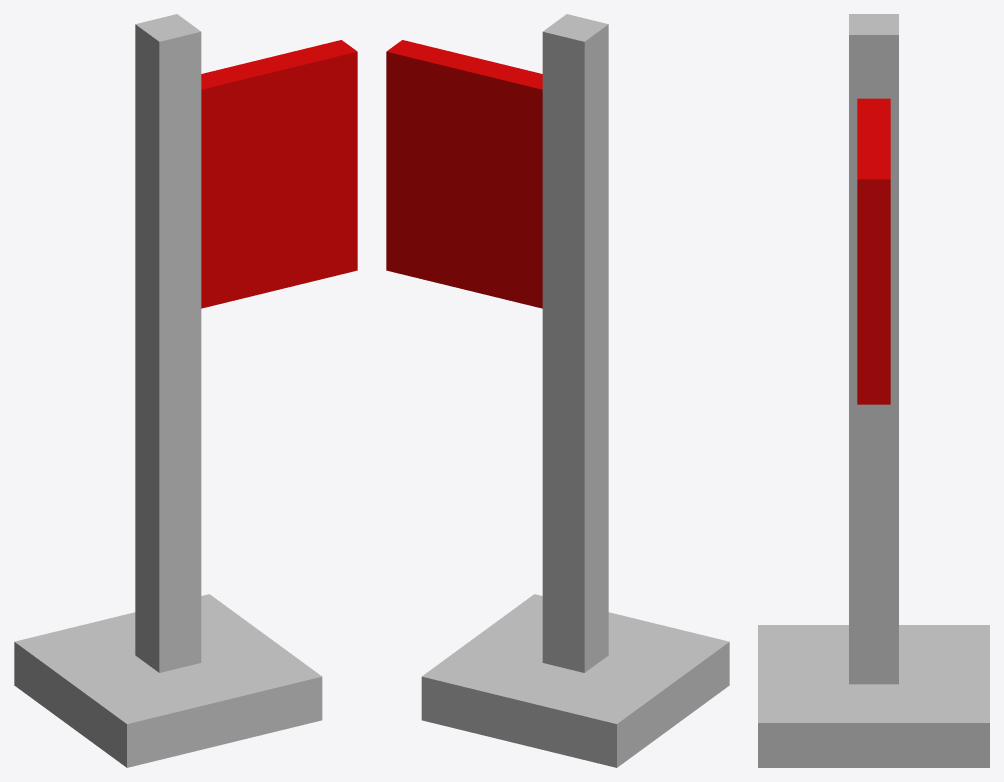
The model's file is openclasscraft_classroom_checkpoint_flag.obj.
The picture shows the model from 3 angles, left to right: view 1: azimuth 30°, elevation 25°; view 2: azimuth 150°, elevation 25°; view 3: azimuth 270°, elevation 25°; orthographic projection. The views are drawn at different scales.
Visible parts, largest first — view 1: checkpoint_flag; view 2: checkpoint_flag; view 3: checkpoint_flag.
Part boxes in pixels (bbox=[...]): checkpoint_flag: bbox=[14, 14, 357, 767]; checkpoint_flag: bbox=[386, 14, 729, 767]; checkpoint_flag: bbox=[758, 14, 989, 767].
Size of the model in its own units: 0.8 by 1.85 by 0.56.
